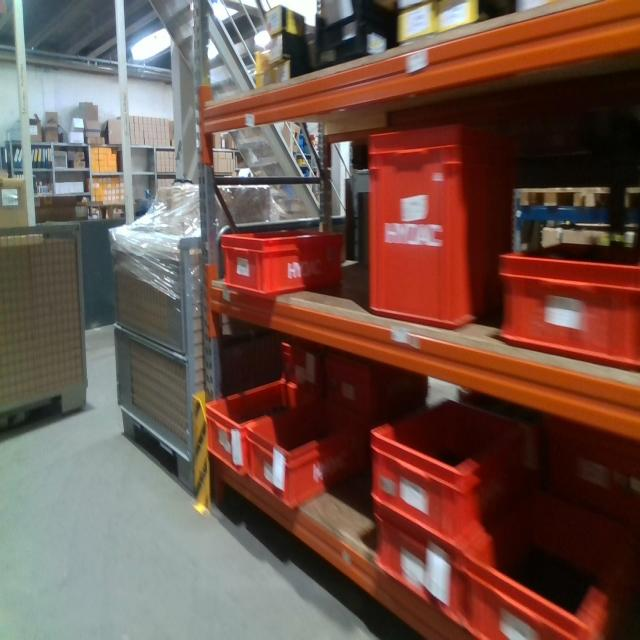small_load_carrier: (368, 136, 515, 334), (466, 487, 631, 639), (370, 406, 535, 545), (503, 250, 637, 374), (245, 393, 369, 509), (369, 509, 465, 630), (208, 375, 312, 478), (221, 228, 344, 298)
stillage: (104, 213, 202, 500), (1, 215, 90, 439)
